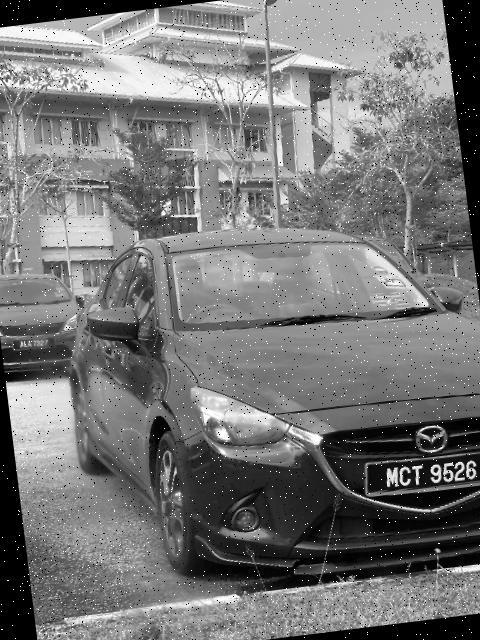ALA7327: (15, 335, 58, 358)
License_Plate: (364, 447, 480, 505), (15, 335, 58, 358)
MCT9526: (364, 447, 480, 505)
car: (48, 193, 480, 618), (1, 253, 109, 382)
